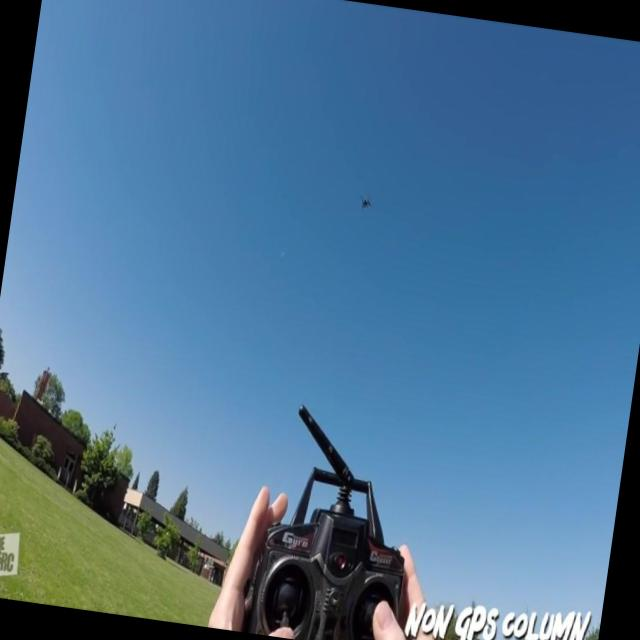drone: (356, 192, 374, 215)
